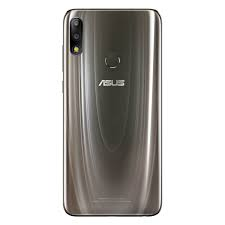asus: (60, 5, 164, 219)
